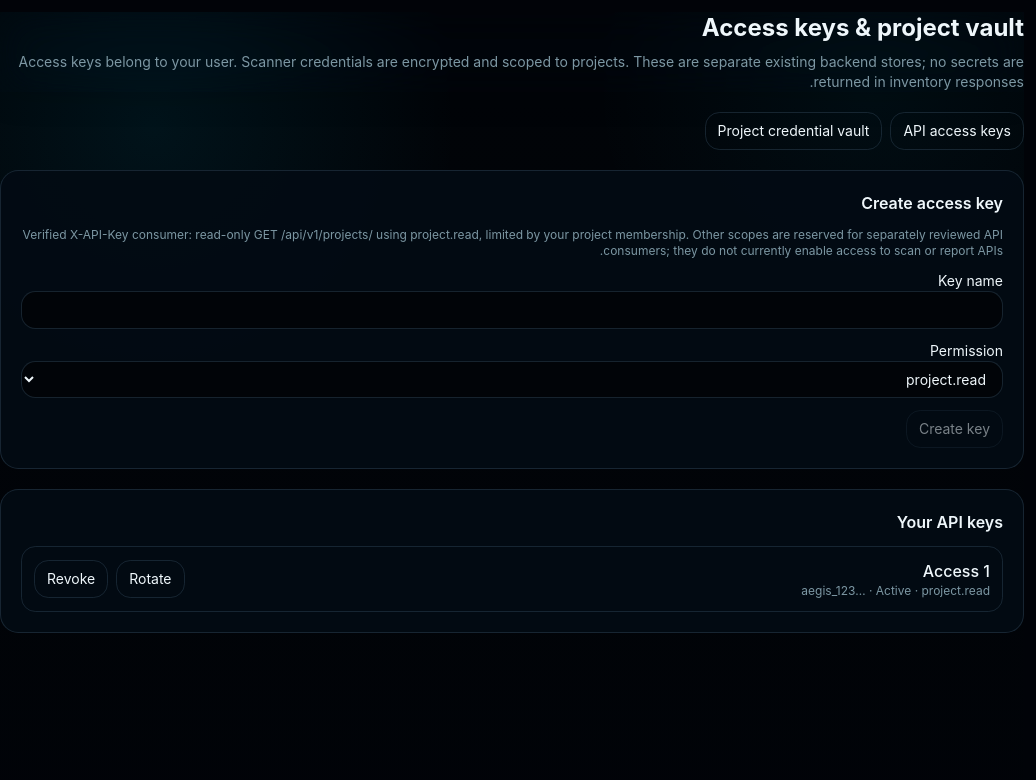
Test case: live key-management control contracts › shows a backend denial when creation fails without revealing key material
Expected: the text "Access 1" is shown, [923, 561, 990, 581]
Step 1. Type "Denied access key" into the field named "New key name" → (512, 310), box [21, 291, 1003, 329]
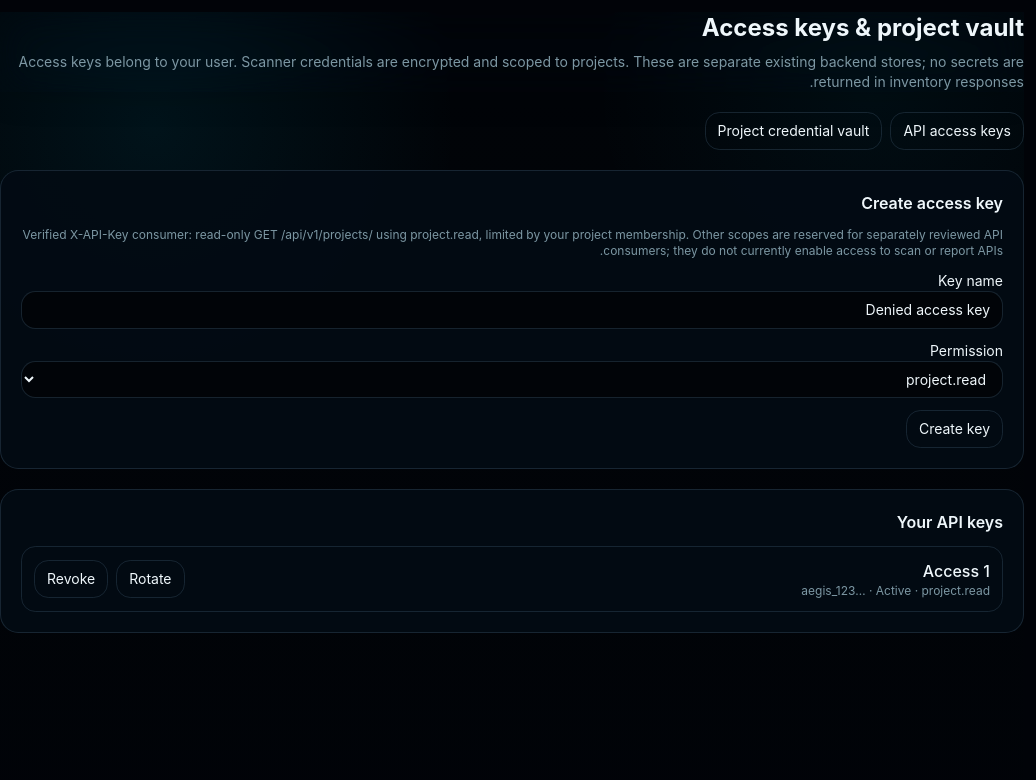
Step 2. Click the button "Create key" → (954, 429), box [906, 410, 1003, 448]
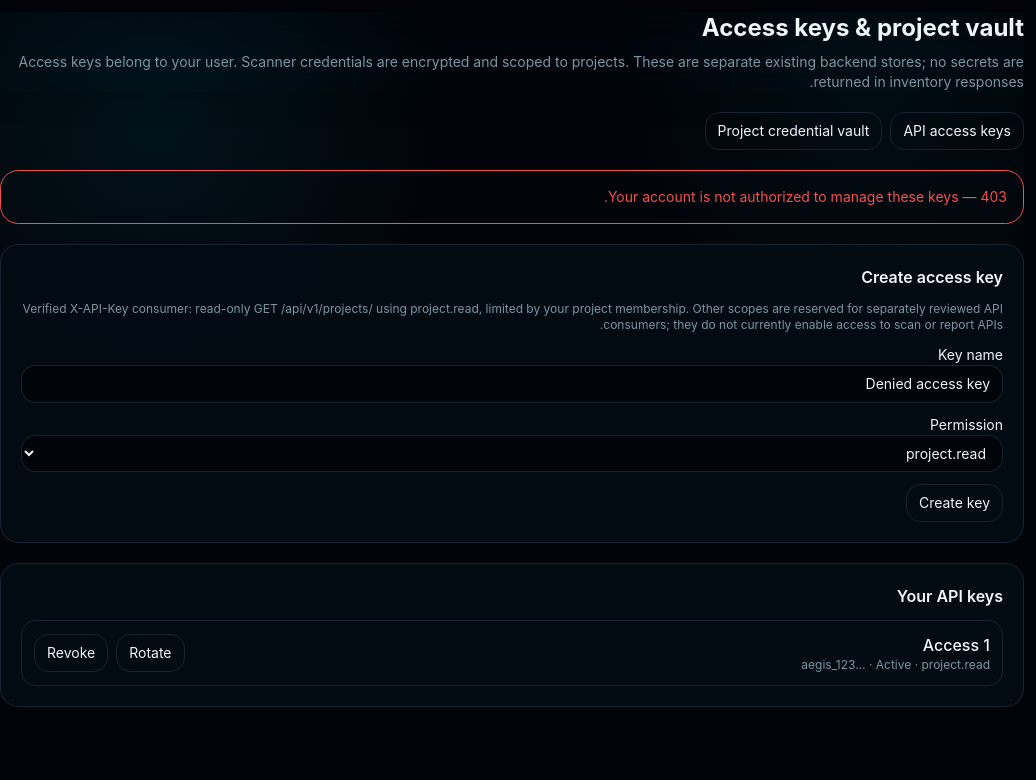
Result: the message shows "403" at [604, 188, 1007, 205]
